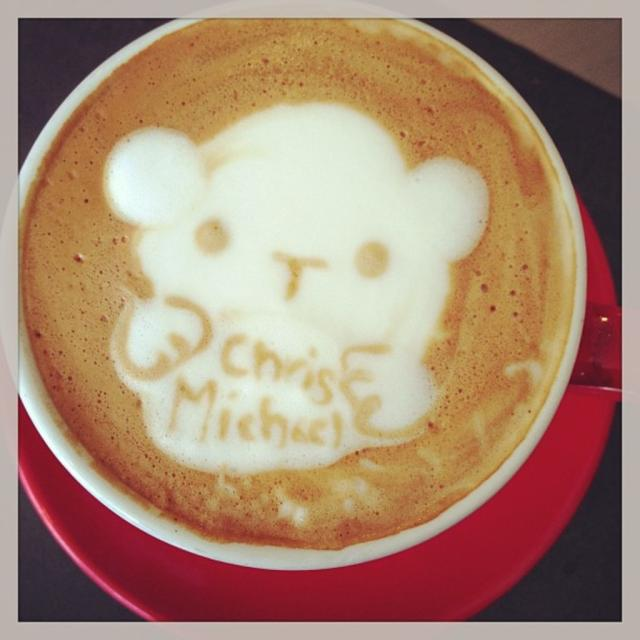latte: (18, 18, 587, 572)
